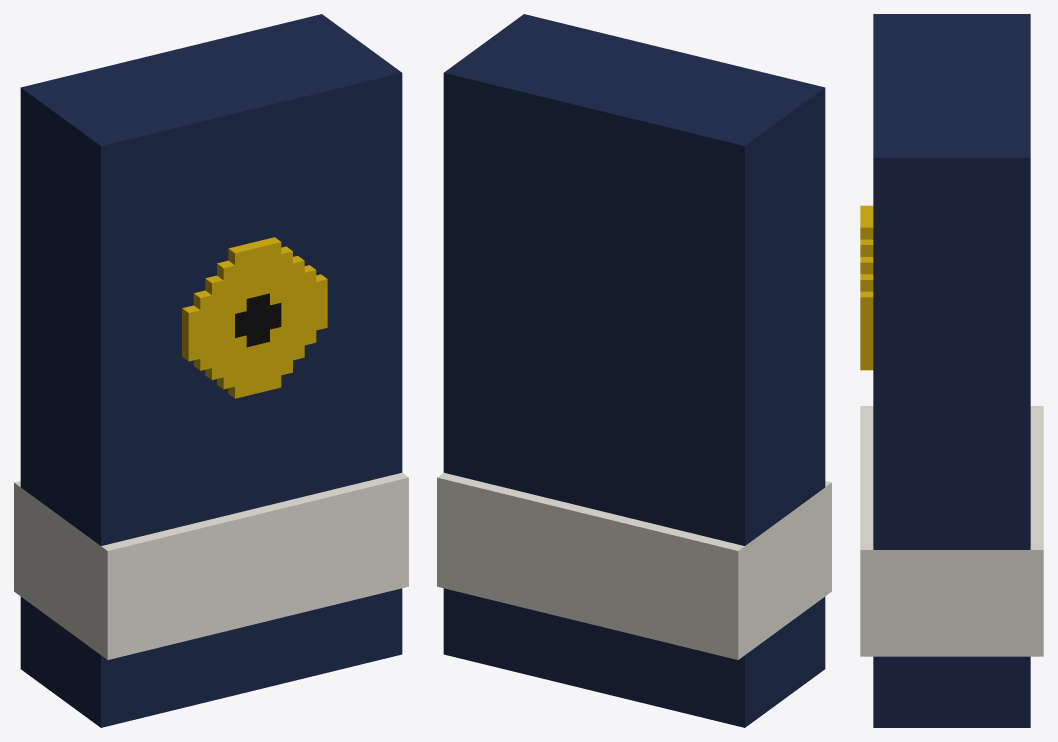
The model's file is prussian_blue.glb.
3 views of the same model, side by side, from view 1: azimuth 30°, elevation 25°; view 2: azimuth 150°, elevation 25°; view 3: azimuth 270°, elevation 25° (orthographic). The views are drawn at different scales.
Parts seen in each view (by area): view 1: prussian_blue:compound; view 2: prussian_blue:compound; view 3: prussian_blue:compound.
Boxes of the visible parts, x1=… form: prussian_blue:compound: x1=14, y1=14, x2=408, y2=727; prussian_blue:compound: x1=437, y1=14, x2=831, y2=727; prussian_blue:compound: x1=860, y1=14, x2=1043, y2=727.
Bounding box in the file's own units: 0.052 × 0.096 × 0.028.
